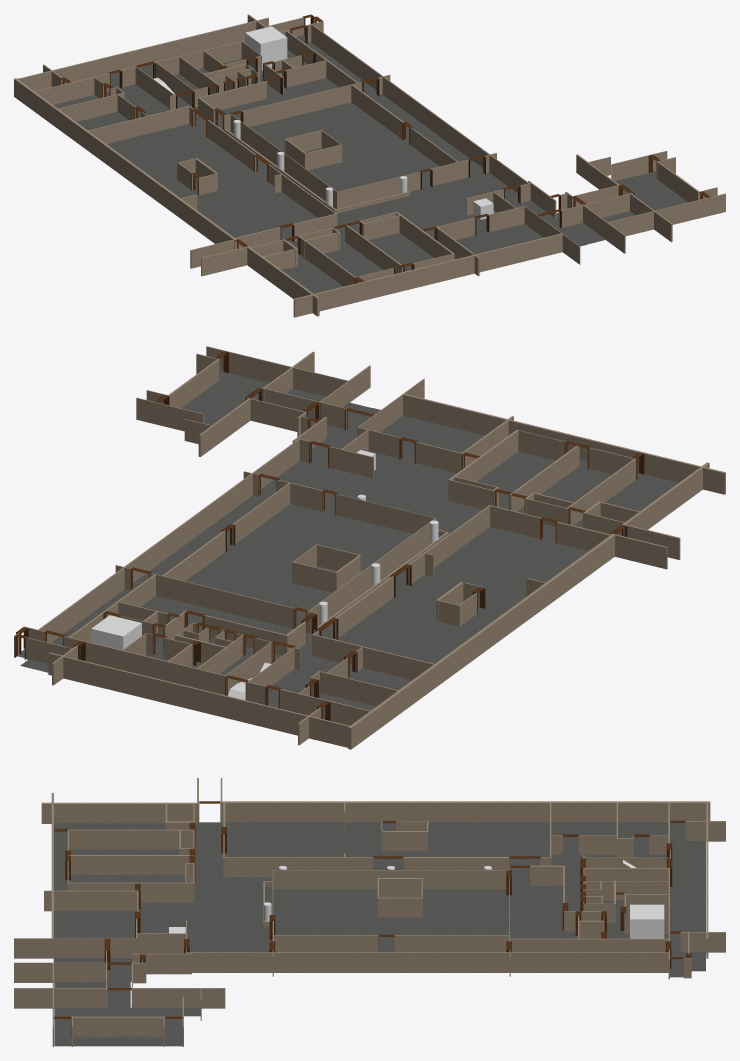
The model's file is first.glb.
3 renders of one model, top to bottom at view 1: azimuth 30°, elevation 25°; view 2: azimuth 150°, elevation 25°; view 3: azimuth 270°, elevation 25°, orthographic. The views are drawn at different scales.
Visible parts, largest first — view 1: Walls.001, Floor.001, Doors.001, Cube.005, Pillars; view 2: Walls.001, Floor.001, Doors.001, Cube.005, Pillars; view 3: Walls.001, Floor.001, Doors.001, Cube.005.
Part boxes in pixels (left/top/right/bottom): Walls.001: left=14, top=14, right=725, bottom=317; Floor.001: left=53, top=35, right=688, bottom=293; Doors.001: left=60, top=14, right=710, bottom=283; Cube.005: left=245, top=26, right=287, bottom=70; Pillars: left=233, top=120, right=407, bottom=206; Walls.001: left=14, top=346, right=725, bottom=749; Floor.001: left=16, top=371, right=678, bottom=710; Doors.001: left=15, top=351, right=644, bottom=720; Cube.005: left=91, top=615, right=141, bottom=650; Pillars: left=319, top=494, right=438, bottom=624; Walls.001: left=14, top=778, right=725, bottom=1046; Floor.001: left=53, top=822, right=705, bottom=1046; Doors.001: left=54, top=801, right=691, bottom=1036; Cube.005: left=630, top=904, right=664, bottom=938.
Size of what is drawn, in the model's own units: 53.43 by 4.57 by 64.52.
3 materials, 3 textured.
